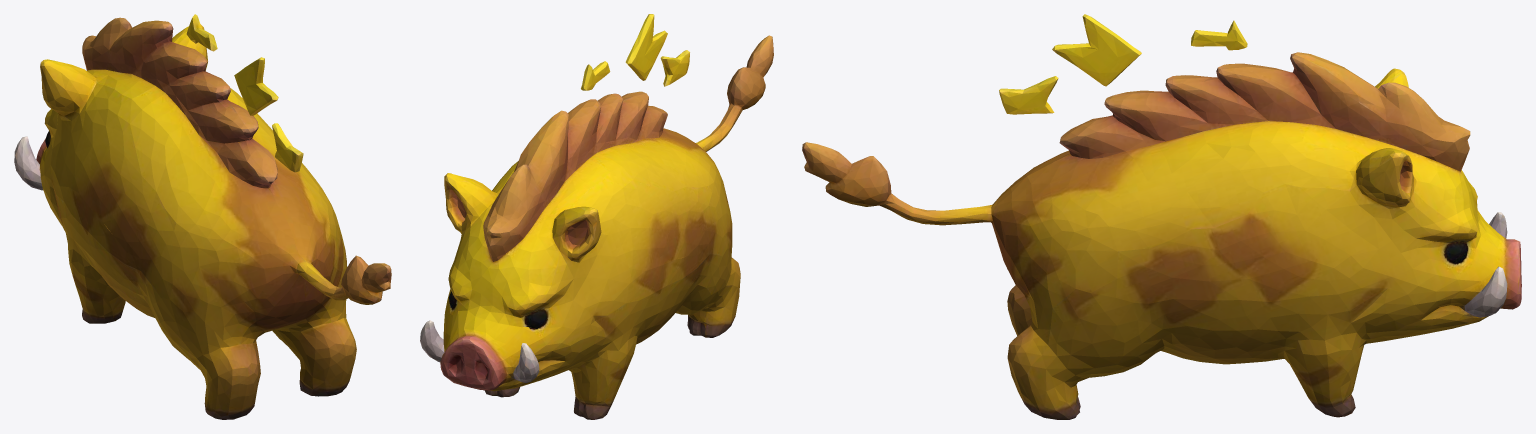
The model's file is voltusk.glb.
The picture shows the model from 3 angles, left to right: view 1: azimuth 30°, elevation 25°; view 2: azimuth 150°, elevation 25°; view 3: azimuth 270°, elevation 25°; orthographic projection. The views are drawn at different scales.
Visible parts, largest first — view 1: world; view 2: world; view 3: world.
Boxes of the visible parts, x1=… form: world: x1=14, y1=14, x2=391, y2=419; world: x1=420, y1=14, x2=773, y2=419; world: x1=802, y1=14, x2=1521, y2=419.
Size of the model in its own units: 0.3334 by 0.571 by 1.
1 material, 1 textured.
